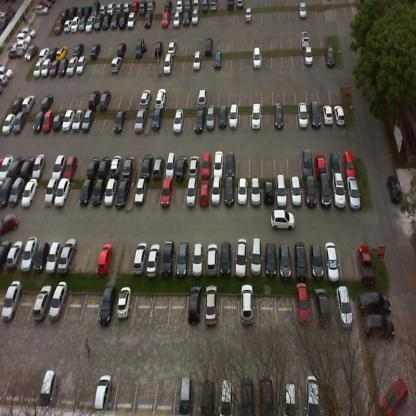car: (380, 377, 409, 415), (1, 278, 22, 323), (92, 372, 113, 415), (38, 366, 58, 410), (357, 289, 391, 314), (28, 288, 51, 324), (46, 290, 69, 326), (364, 316, 395, 342), (96, 288, 118, 324), (336, 286, 354, 330), (354, 240, 374, 277), (114, 289, 136, 322), (314, 286, 332, 326), (21, 233, 39, 273), (303, 372, 320, 414), (295, 280, 311, 324), (145, 240, 165, 275), (324, 242, 342, 280), (202, 293, 221, 329), (41, 239, 60, 273), (178, 374, 193, 415), (76, 176, 94, 210), (293, 243, 311, 277), (53, 241, 72, 273), (187, 292, 204, 327), (259, 372, 273, 414), (240, 281, 253, 326), (88, 174, 105, 208), (278, 244, 295, 278), (310, 242, 326, 278), (160, 241, 177, 274), (174, 243, 191, 276), (241, 375, 255, 415), (203, 241, 218, 278), (201, 378, 216, 415), (219, 378, 234, 415), (188, 242, 204, 276), (263, 243, 279, 277), (8, 174, 25, 206), (344, 176, 362, 206), (234, 241, 249, 277), (113, 177, 129, 210), (156, 178, 172, 211), (132, 240, 148, 273), (217, 242, 233, 275), (6, 238, 23, 269), (270, 209, 295, 230), (21, 178, 39, 207), (100, 178, 116, 210), (96, 244, 113, 274), (248, 240, 263, 274), (316, 177, 332, 208), (54, 178, 70, 209), (314, 148, 330, 178), (386, 174, 402, 204), (283, 380, 297, 414), (0, 174, 14, 208), (133, 177, 146, 212), (341, 149, 357, 177), (84, 153, 101, 179), (0, 212, 19, 235), (330, 179, 345, 208), (197, 179, 211, 210), (288, 180, 304, 207), (301, 148, 315, 178), (235, 179, 249, 209), (262, 178, 276, 208), (276, 179, 290, 209), (96, 154, 112, 180), (51, 152, 67, 178), (328, 148, 342, 177), (209, 180, 223, 209), (44, 176, 58, 205), (304, 178, 317, 209), (122, 155, 138, 180), (112, 107, 126, 135), (332, 101, 347, 127), (186, 152, 201, 178), (109, 155, 125, 179), (0, 239, 12, 271), (184, 179, 196, 210), (133, 108, 147, 134), (149, 154, 163, 180), (64, 152, 78, 178), (0, 153, 14, 179), (138, 155, 153, 179), (249, 179, 261, 209), (8, 155, 24, 177), (150, 106, 163, 133), (164, 152, 178, 177), (199, 152, 213, 177), (210, 152, 224, 177), (224, 179, 236, 208), (20, 155, 35, 178), (32, 152, 45, 178), (174, 153, 188, 177), (224, 150, 236, 178), (12, 110, 26, 134), (1, 113, 16, 135), (194, 107, 206, 133), (61, 109, 75, 131), (137, 87, 151, 109), (71, 108, 84, 131), (31, 111, 45, 132), (42, 110, 54, 134), (311, 102, 322, 128), (321, 104, 334, 126), (65, 55, 78, 77), (24, 42, 38, 62), (274, 105, 286, 128), (298, 105, 310, 128), (81, 108, 93, 131), (216, 107, 227, 131), (196, 86, 208, 108), (174, 108, 184, 134), (31, 59, 44, 79), (162, 52, 173, 75), (154, 89, 166, 110), (252, 105, 262, 130), (205, 108, 216, 130), (228, 106, 239, 128), (56, 57, 68, 77), (22, 94, 35, 112), (110, 55, 123, 73), (52, 113, 64, 132), (100, 92, 110, 114), (252, 47, 262, 69), (75, 54, 86, 74), (12, 96, 24, 114), (326, 42, 334, 69), (48, 59, 60, 77), (88, 90, 99, 109), (83, 15, 94, 34), (304, 45, 313, 68), (41, 93, 53, 110), (204, 37, 214, 57), (135, 38, 145, 58), (0, 64, 13, 79), (88, 44, 100, 60), (109, 12, 119, 31), (214, 49, 223, 70), (192, 50, 201, 71), (300, 29, 310, 47), (101, 12, 111, 30), (117, 12, 127, 30), (127, 11, 136, 31), (62, 17, 73, 33), (161, 12, 170, 31), (54, 18, 64, 35), (72, 42, 84, 56), (8, 46, 23, 57), (146, 0, 157, 15), (143, 12, 152, 30), (57, 44, 67, 60), (41, 60, 51, 76), (90, 0, 100, 16), (116, 42, 127, 56), (182, 9, 191, 26), (190, 8, 198, 27), (154, 40, 162, 58), (94, 14, 102, 32), (172, 10, 180, 28), (48, 46, 59, 59), (17, 31, 30, 42), (22, 26, 36, 36), (70, 16, 80, 30), (69, 4, 79, 18), (14, 39, 27, 49), (35, 5, 48, 15), (77, 18, 87, 31), (138, 1, 147, 15), (163, 0, 172, 14), (298, 3, 306, 18), (168, 38, 176, 53), (39, 47, 49, 59), (225, 0, 234, 13), (245, 6, 252, 22), (38, 0, 52, 8), (0, 74, 8, 88), (201, 0, 209, 14), (123, 1, 132, 13), (84, 5, 92, 18), (131, 1, 139, 14), (210, 0, 218, 13), (76, 5, 84, 17), (108, 0, 116, 12), (100, 3, 108, 14), (116, 1, 124, 12), (176, 0, 184, 11), (184, 0, 192, 11), (236, 0, 244, 10), (61, 7, 68, 17), (193, 0, 199, 9)
